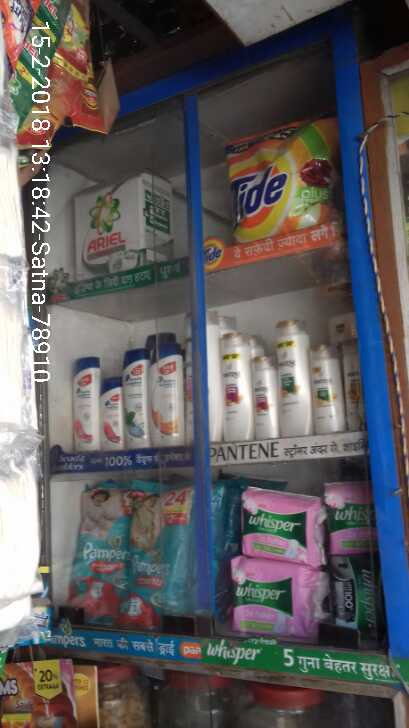beauty: (274, 312, 310, 436), (148, 337, 183, 451), (216, 329, 251, 442), (306, 342, 341, 437), (122, 346, 147, 455), (71, 348, 98, 448), (249, 353, 277, 440), (95, 378, 122, 454)
home: (224, 119, 335, 242), (67, 168, 167, 274)
pharmacy: (124, 488, 204, 626), (64, 478, 129, 624), (235, 483, 328, 568), (231, 554, 316, 636)
